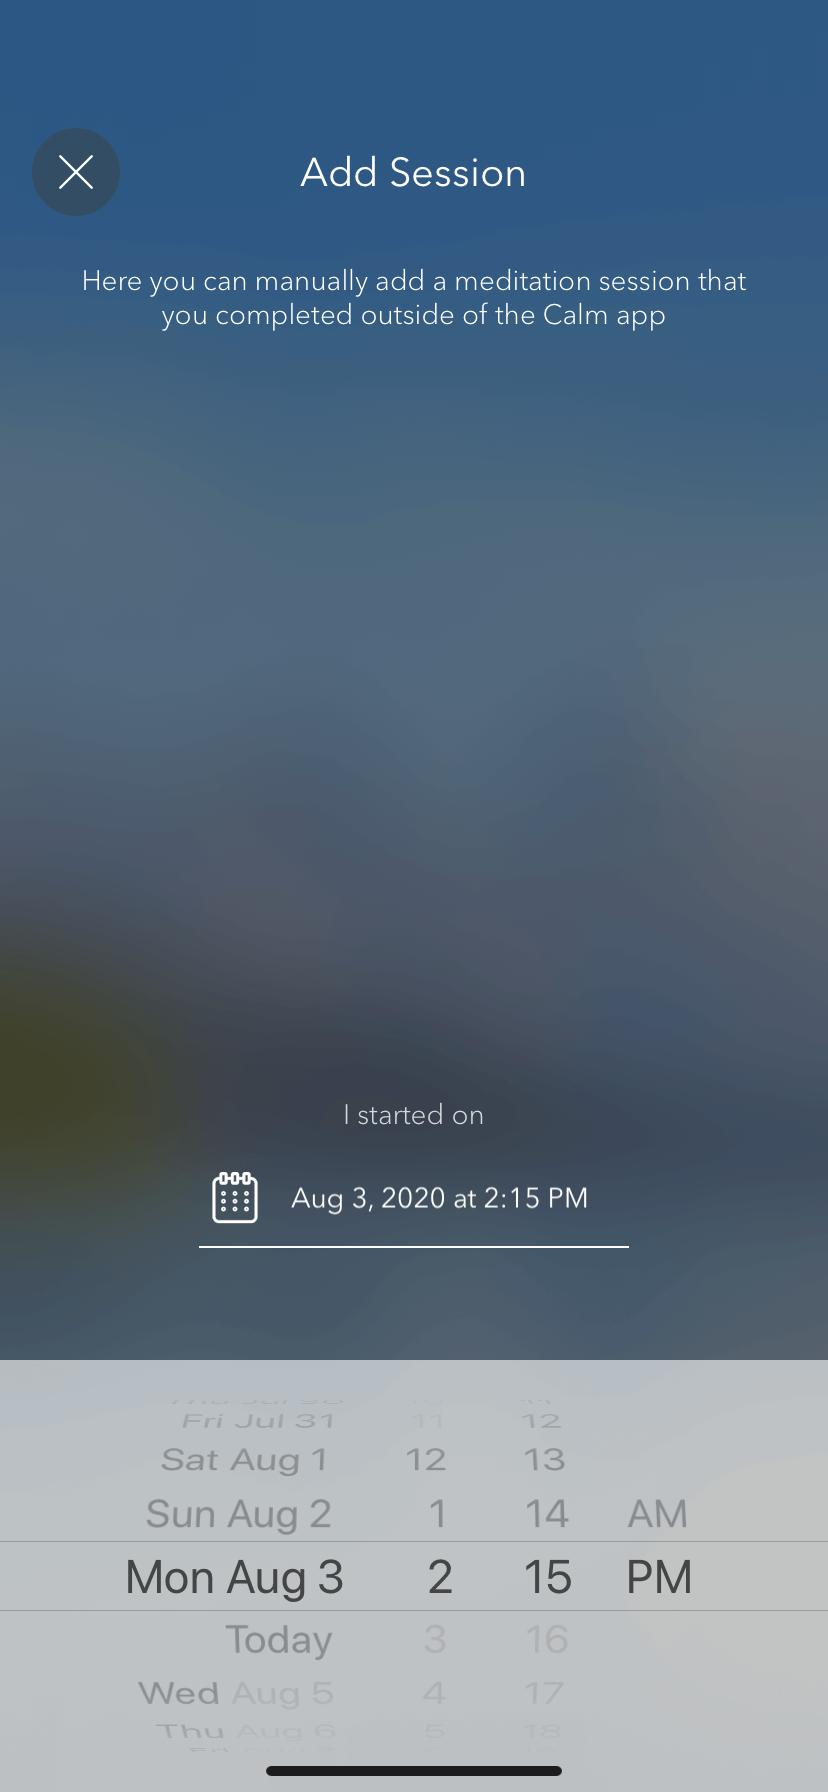Buttons: (21, 112, 136, 227)
Pickers: (1, 1353, 828, 1747)
